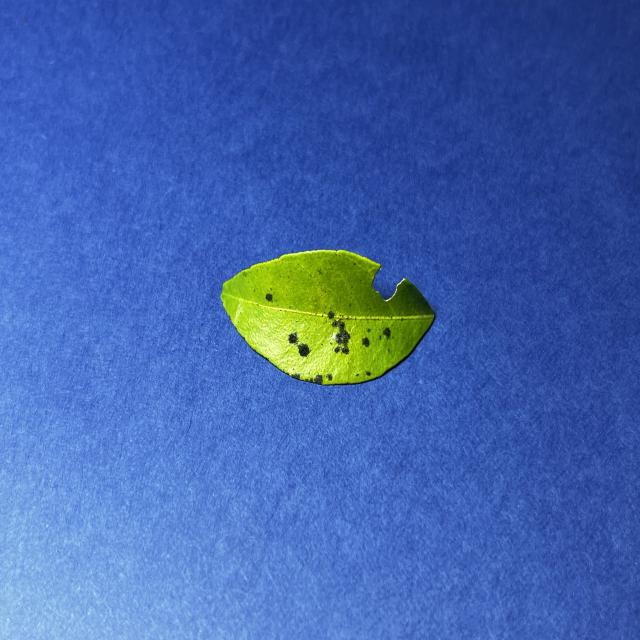sooty_mold: (221, 250, 434, 384)
